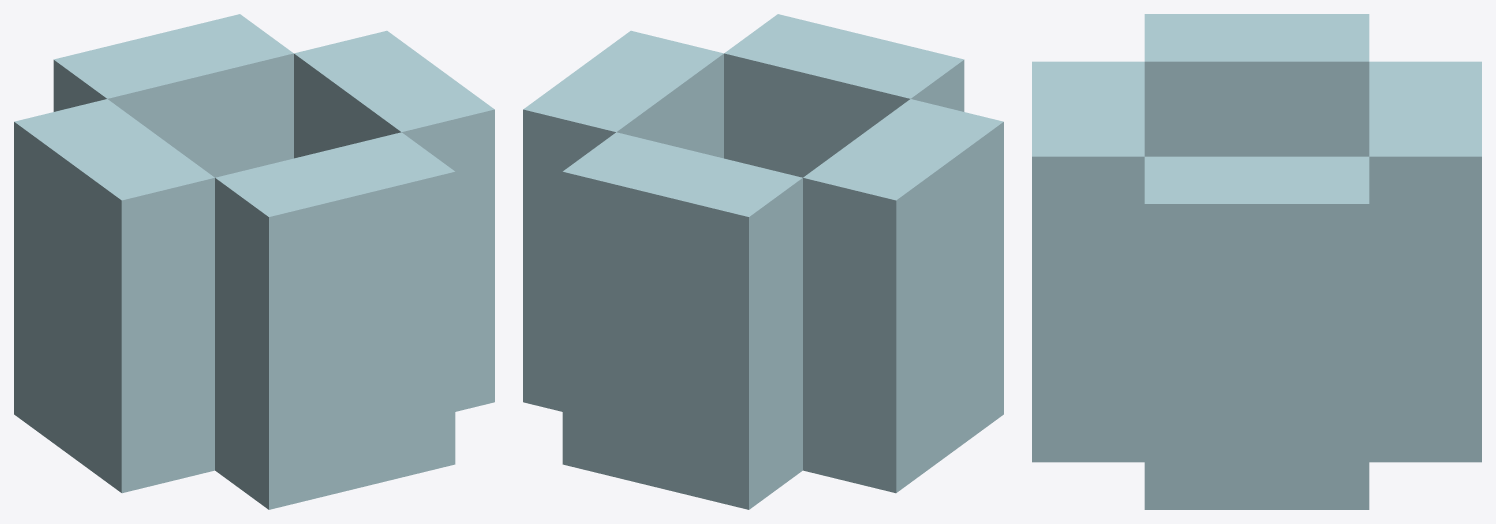
Rendered from Vidro Poste.obj.
The picture shows the model from 3 angles, left to right: view 1: azimuth 30°, elevation 25°; view 2: azimuth 150°, elevation 25°; view 3: azimuth 270°, elevation 25°; orthographic projection. The views are drawn at different scales.
Bounding box in the file's own units: 0.4 × 0.3 × 0.4.
Materials: 1 (1 with a texture image).
